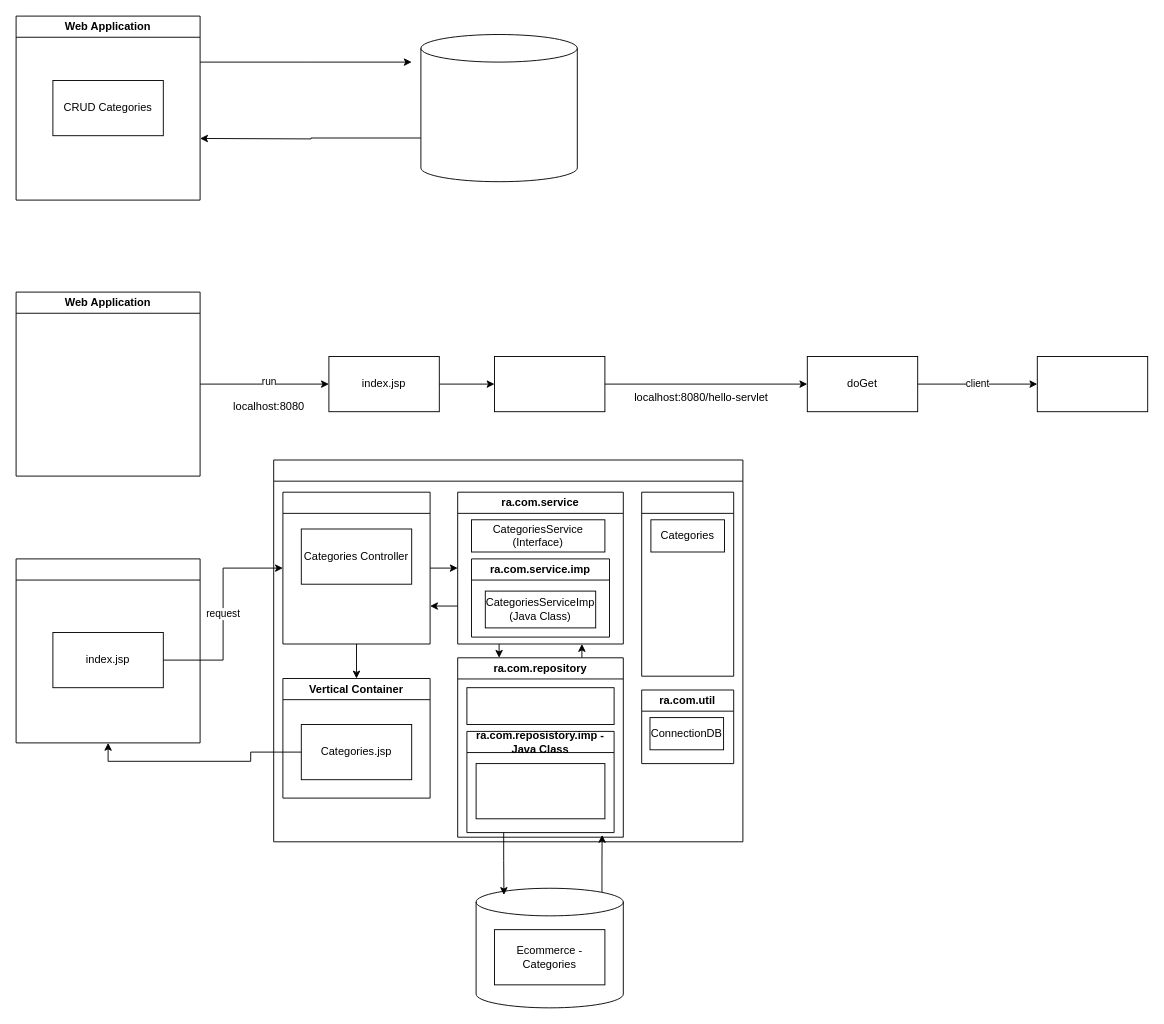
The diagram is 1164 pixels wide and 1024 high, and some of its shapes have lost their labels. The box of each missing label's shape, as (x1, y1, x2, y2) in pixels:
CategoriesRepository(Interface): (466, 687, 614, 724)
CategoriesRepositoryImp (Java Class): (475, 763, 605, 819)
Click: Hello Servlet: (494, 356, 605, 412)
Ecommerce Database: (420, 34, 577, 182)
Hello Word: (1036, 356, 1148, 412)
ra.com.controller - Servlet: (282, 491, 430, 644)
ra.com.entity: (641, 491, 734, 676)
Web Application - Tomcat Server: (273, 459, 743, 842)
Web Browser - Chrome: (15, 558, 200, 743)
